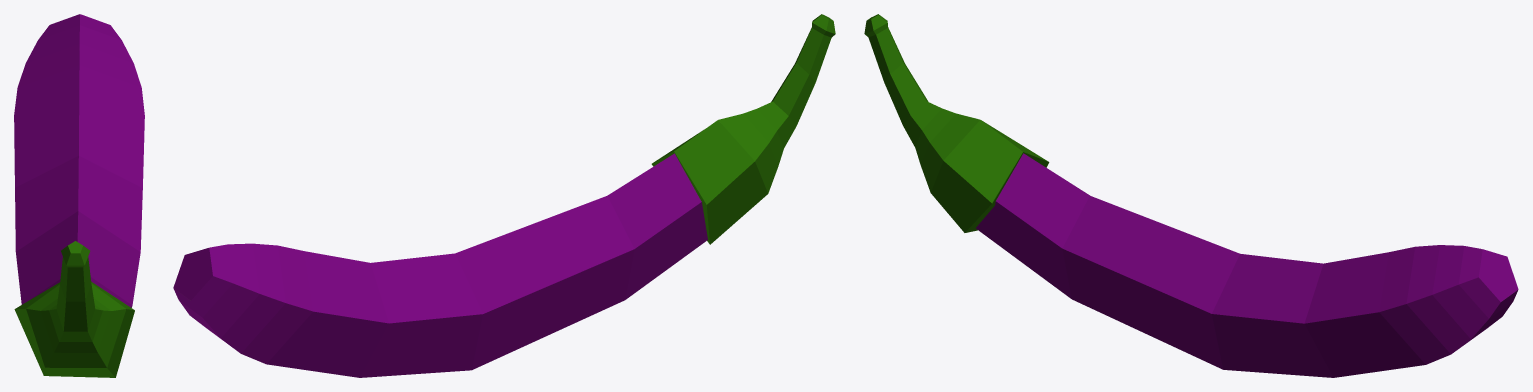
The model's file is eggplant.fbx.
3 renders of one model, left to right at view 1: azimuth 30°, elevation 25°; view 2: azimuth 150°, elevation 25°; view 3: azimuth 270°, elevation 25°, orthographic. The views are drawn at different scales.
Parts seen in each view (by area): view 1: Eggplant; view 2: Eggplant; view 3: Eggplant.
Part boxes in pixels (<box>): Eggplant: <box>14,14,144,377</box>; Eggplant: <box>173,14,835,377</box>; Eggplant: <box>864,14,1518,377</box>.
Size of the model in its own units: 124 by 86.47 by 203.
